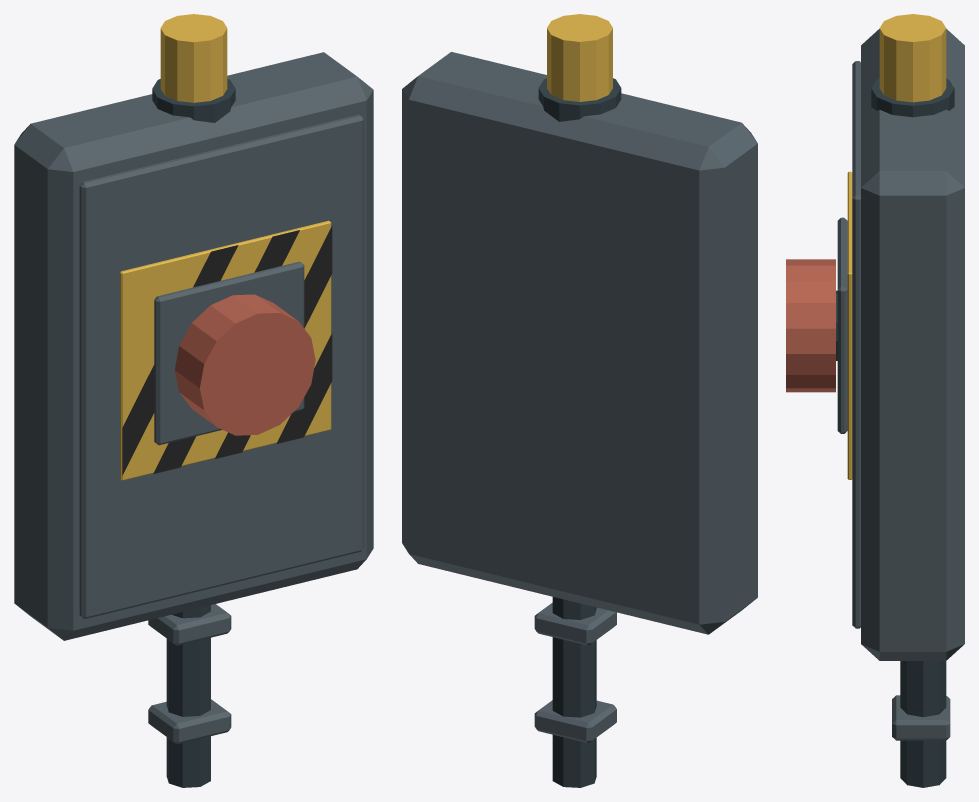
File: wall_button_panel.glb
The picture shows the model from 3 angles, left to right: view 1: azimuth 30°, elevation 25°; view 2: azimuth 150°, elevation 25°; view 3: azimuth 270°, elevation 25°; orthographic projection.
Parts seen in each view (by area): view 1: Keep_Mesh; view 2: Keep_Mesh; view 3: Keep_Mesh.
Boxes of the visible parts, bbox=[...] form: Keep_Mesh: bbox=[14, 14, 373, 787]; Keep_Mesh: bbox=[402, 14, 757, 787]; Keep_Mesh: bbox=[786, 14, 964, 787].
Bounding box in the file's own units: 0.9 × 1.99 × 0.43.
